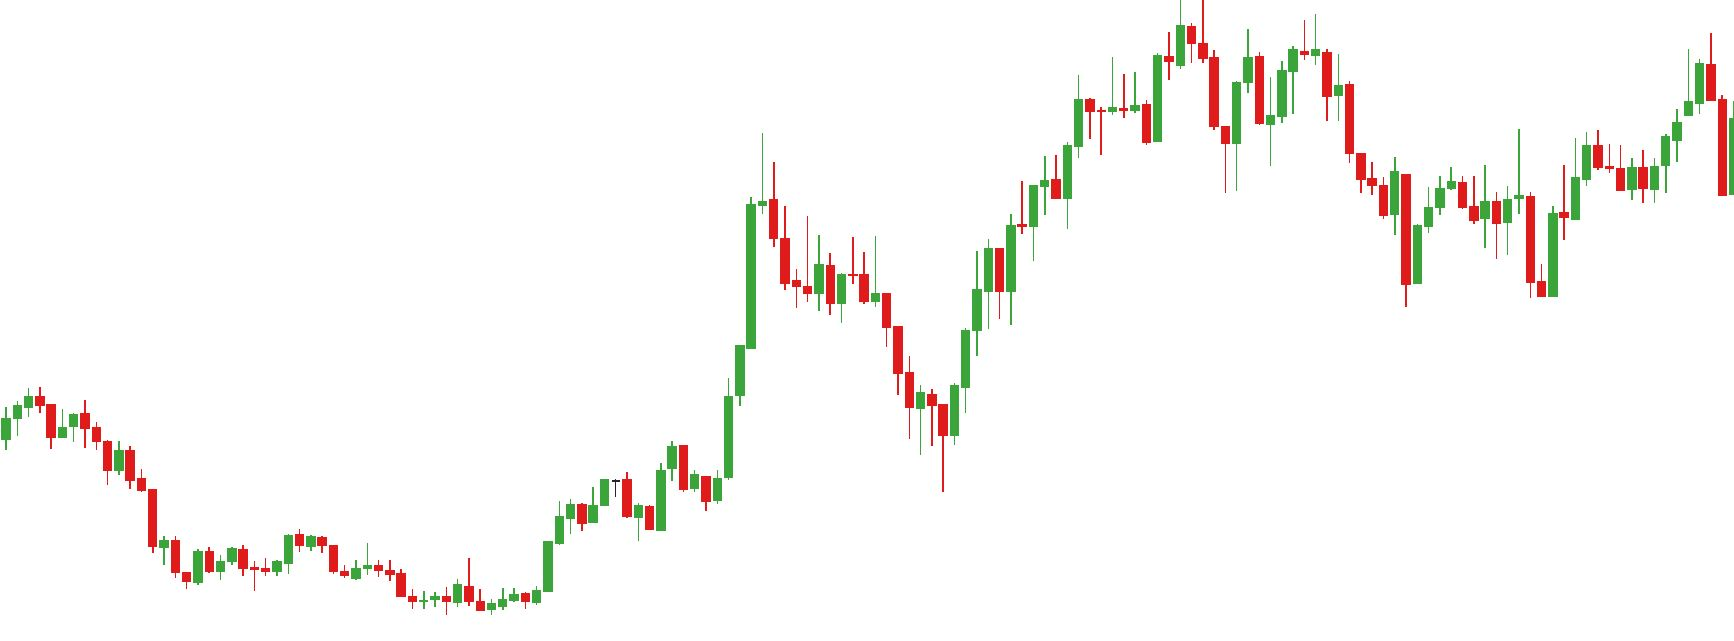buy: (1479, 187, 1561, 302), (576, 487, 645, 545)
sell: (1243, 20, 1310, 102)
